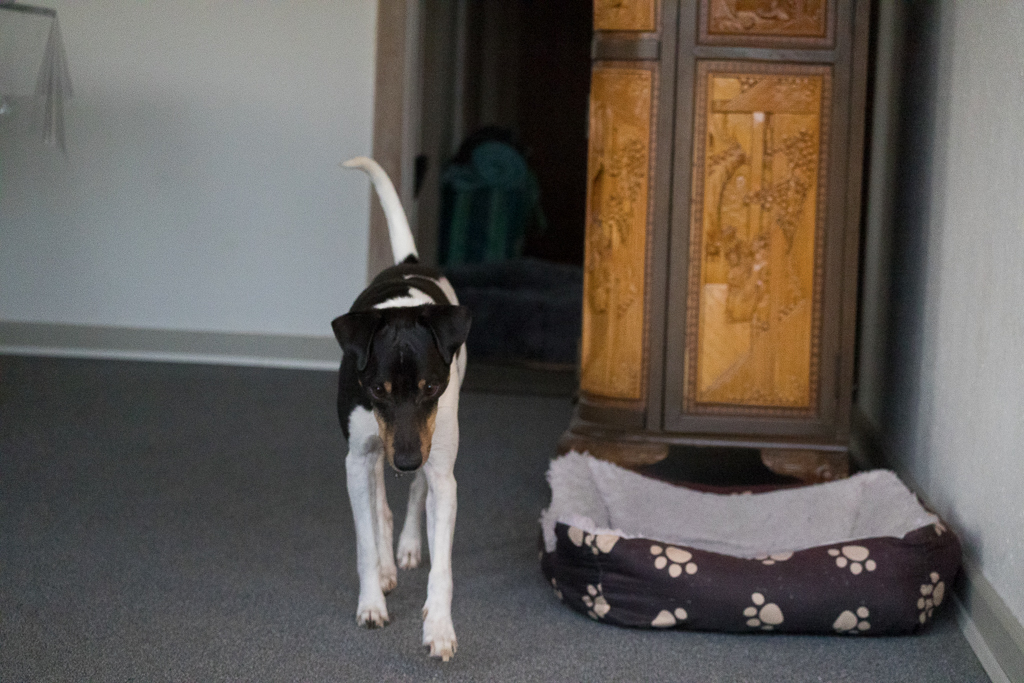Dog: (309, 141, 495, 664)
